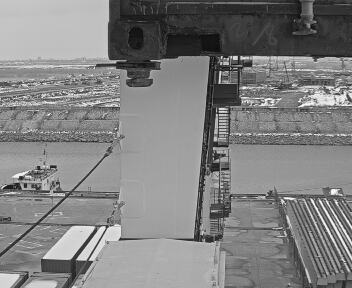twist_lock_1: (108, 52, 164, 93)
